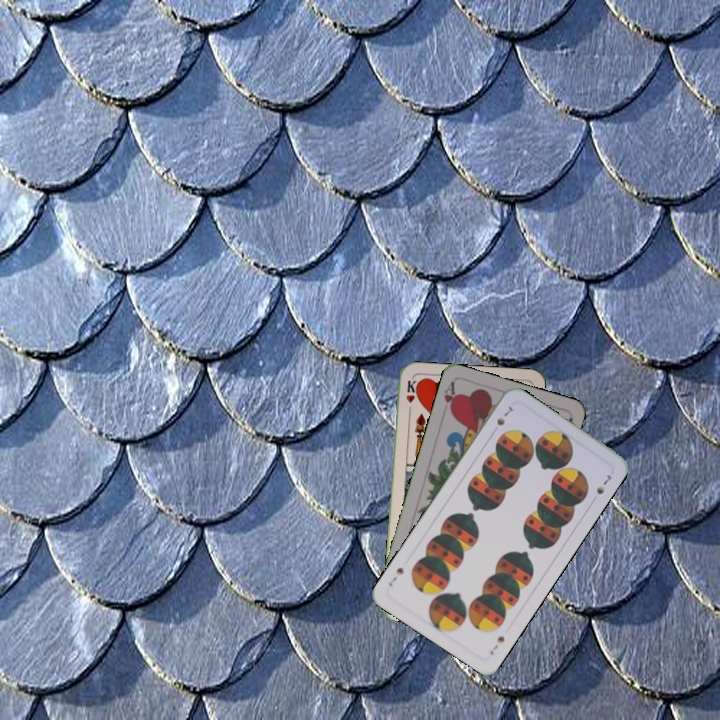HA: (440, 378, 460, 417)
HK: (402, 376, 419, 416)
S7: (493, 402, 515, 428), (486, 632, 507, 658)
